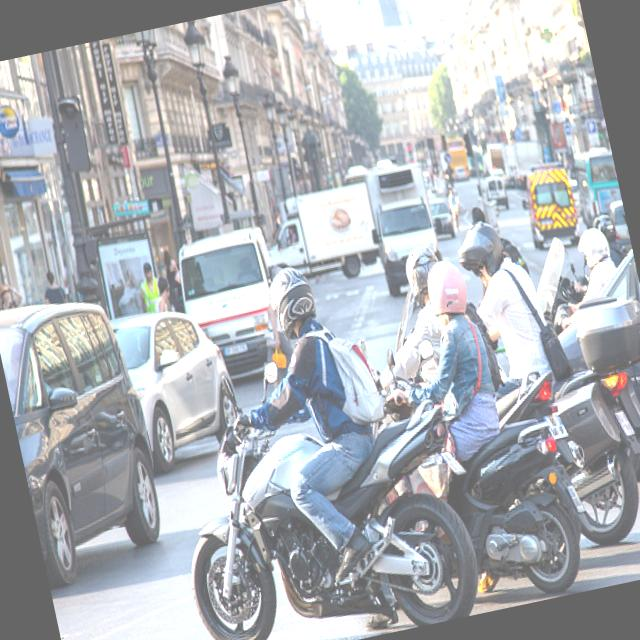Vehicle: (135, 126, 640, 640), (137, 315, 498, 640), (0, 280, 176, 586), (456, 412, 600, 608), (113, 300, 249, 480), (170, 214, 294, 383), (540, 363, 640, 551), (258, 181, 386, 295), (560, 228, 640, 381), (360, 160, 448, 297), (513, 150, 584, 250), (526, 234, 584, 340), (571, 150, 625, 226), (500, 136, 549, 191), (428, 193, 461, 244), (605, 199, 632, 252), (482, 174, 510, 212), (451, 164, 469, 182), (422, 168, 434, 192)
